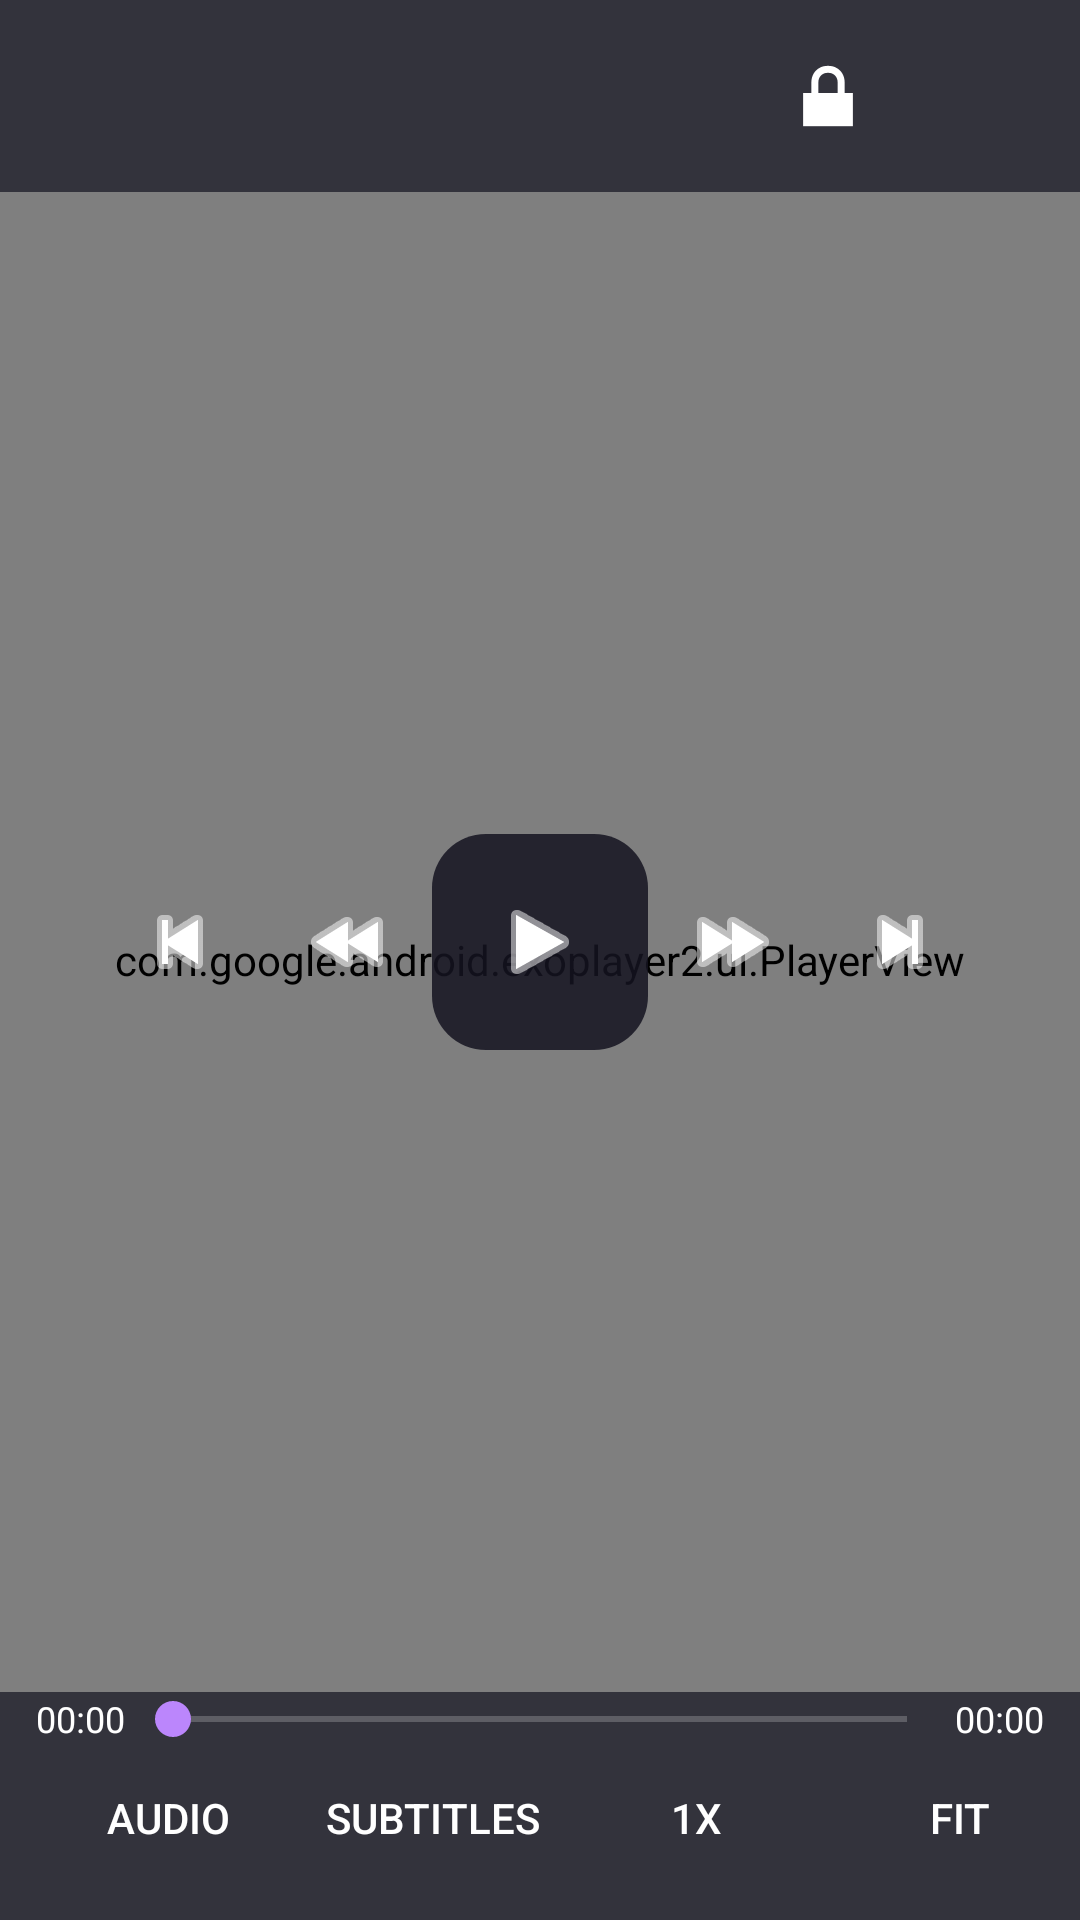

Named icons in this screenshot (1080*1920) and their centers, point (x, y):
Lock controls: point (828, 96)
Play or pause: point (540, 942)
